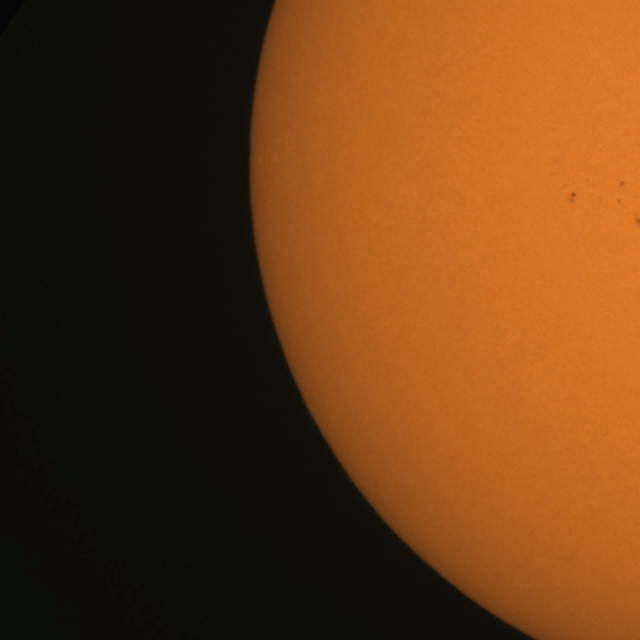sunspot: (566, 191, 578, 206), (634, 211, 640, 227), (619, 180, 626, 187), (616, 197, 622, 204)
